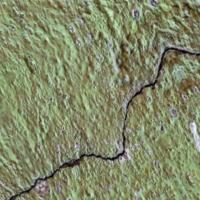crack: (0, 41, 199, 199)
